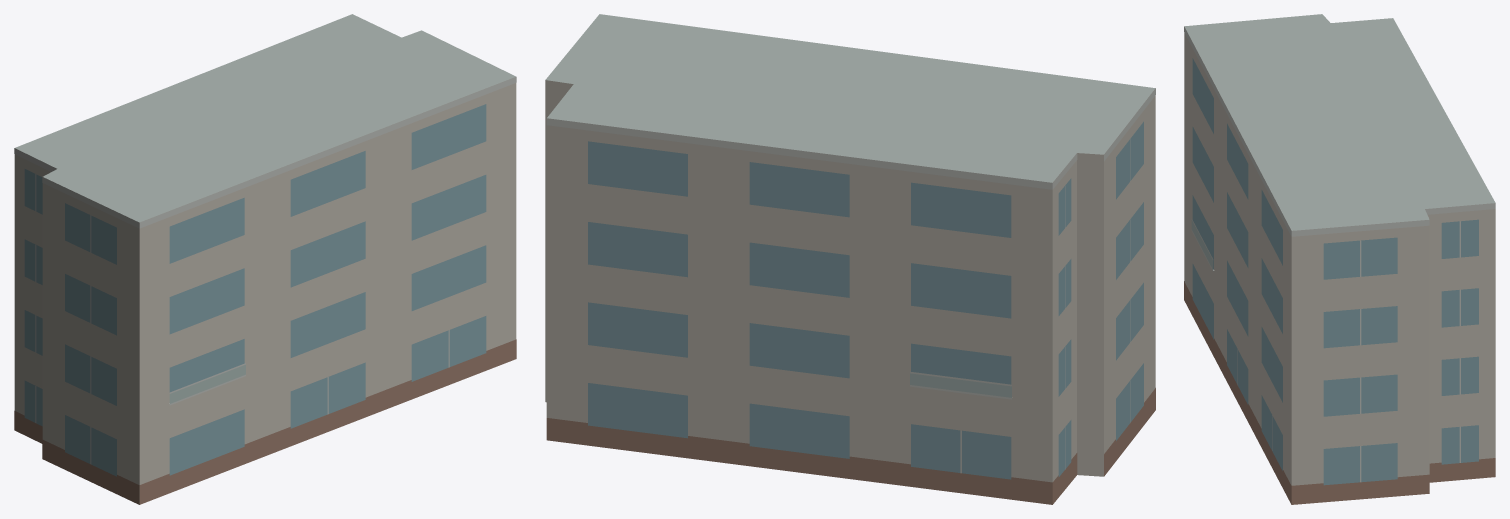
The model's file is survey-upis-32938471.glb.
The picture shows the model from 3 angles, left to right: view 1: azimuth 30°, elevation 25°; view 2: azimuth 150°, elevation 25°; view 3: azimuth 270°, elevation 25°; orthographic projection. The views are drawn at different scales.
Parts seen in each view (by area): view 1: survey-upis-32938471.tmp; view 2: survey-upis-32938471.tmp; view 3: survey-upis-32938471.tmp.
Boxes of the visible parts, x1=… form: survey-upis-32938471.tmp: x1=14, y1=14, x2=516, y2=504; survey-upis-32938471.tmp: x1=545, y1=14, x2=1155, y2=504; survey-upis-32938471.tmp: x1=1184, y1=14, x2=1495, y2=504.
Bounding box in the file's own units: 19.16 × 11.28 × 11.63.
